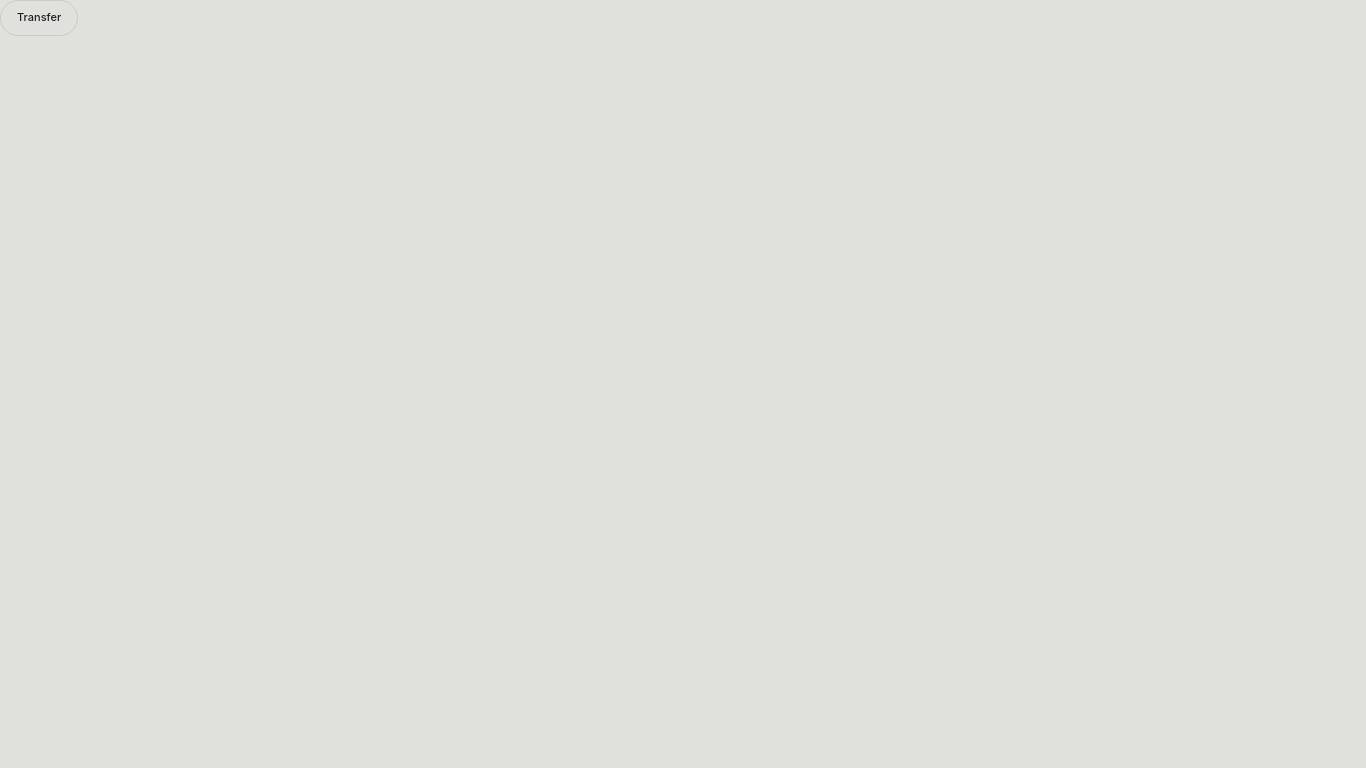
Test: hides a previously authorized plan while reopening and after permission is denied
Click the button "Transfer": (39, 18) 0,0 -> 78,36
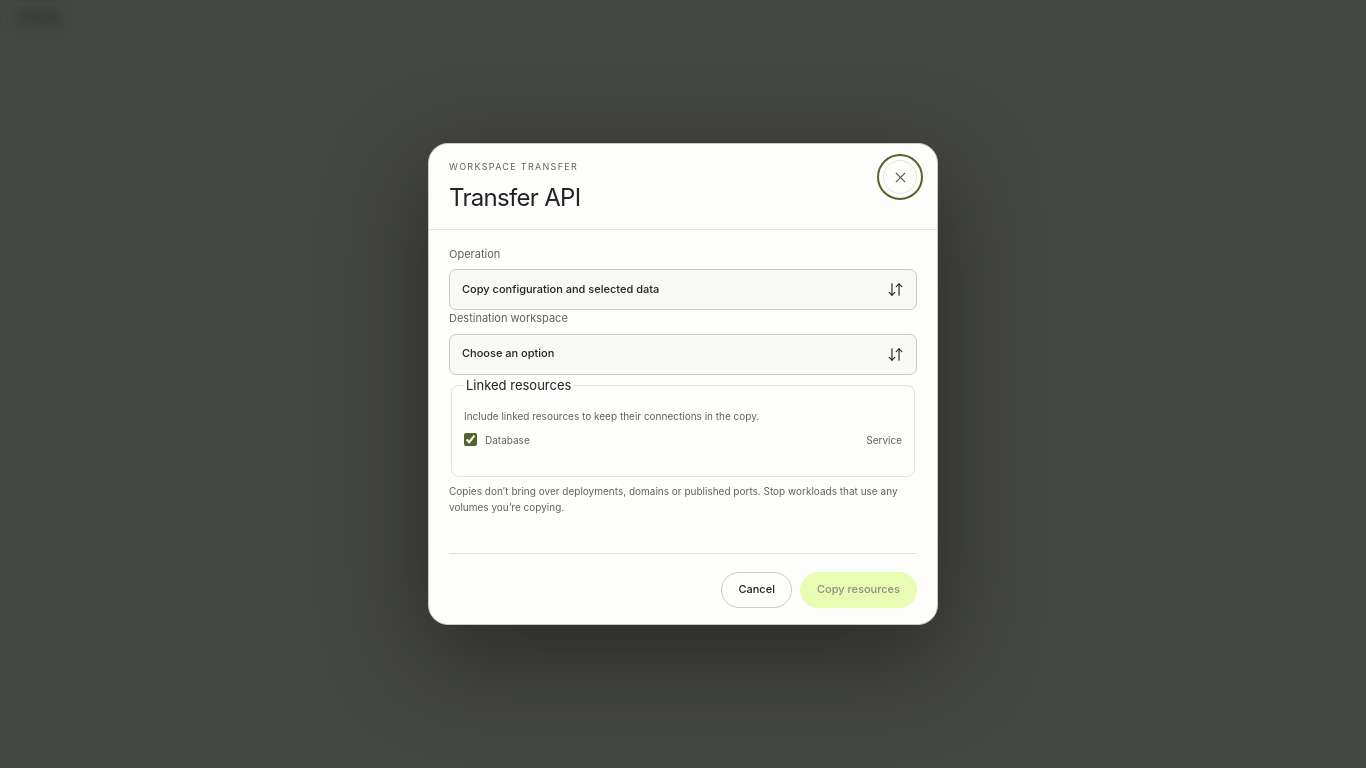
Now the checkbox labelled "Database Service" is checked, box 464,433 -> 477,446
Click the button named "Close dialog": (900, 177) 883,160 -> 917,194
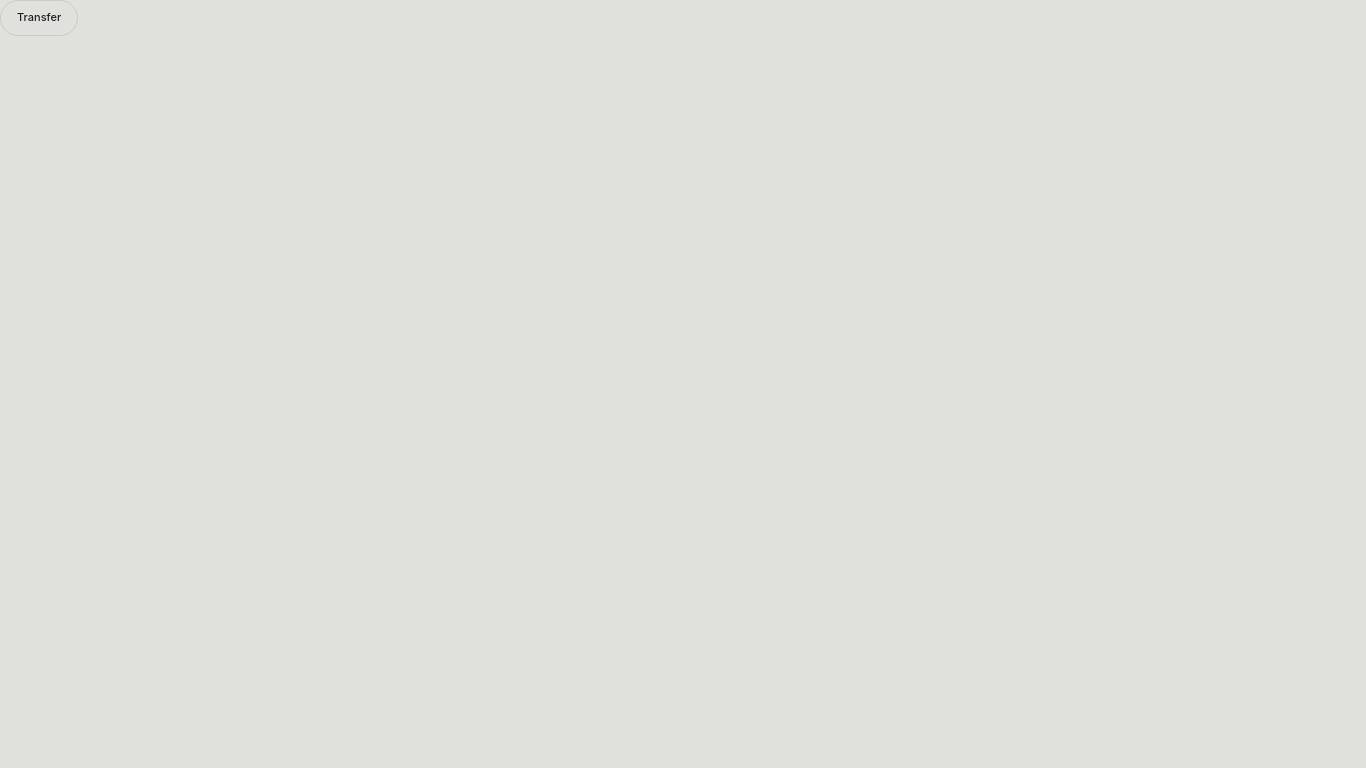
Click the button "Transfer": (39, 18) 0,0 -> 78,36
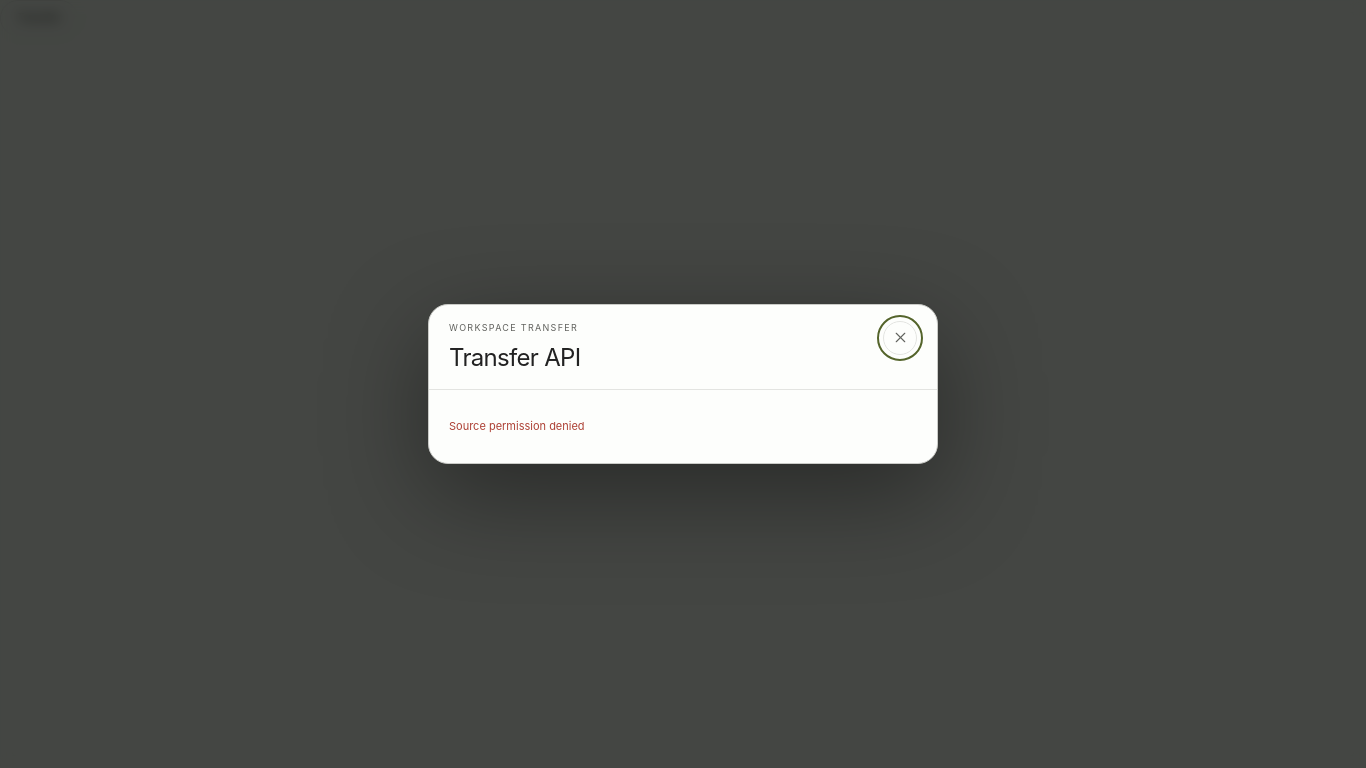
Expected: the text "Linked resources" is not shown
Now the message reads "Source permission denied", box 449,419 -> 585,433
